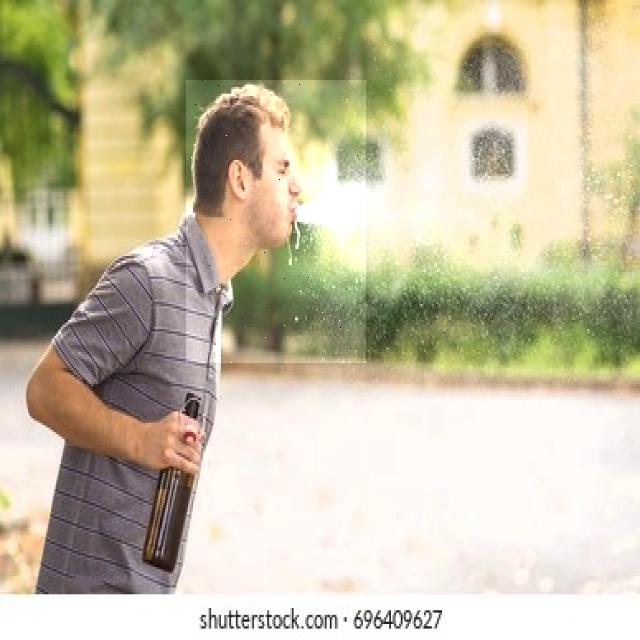Spitting: (186, 80, 366, 363)
